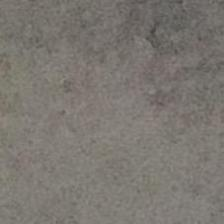Non_Crack: (3, 68, 204, 224)
